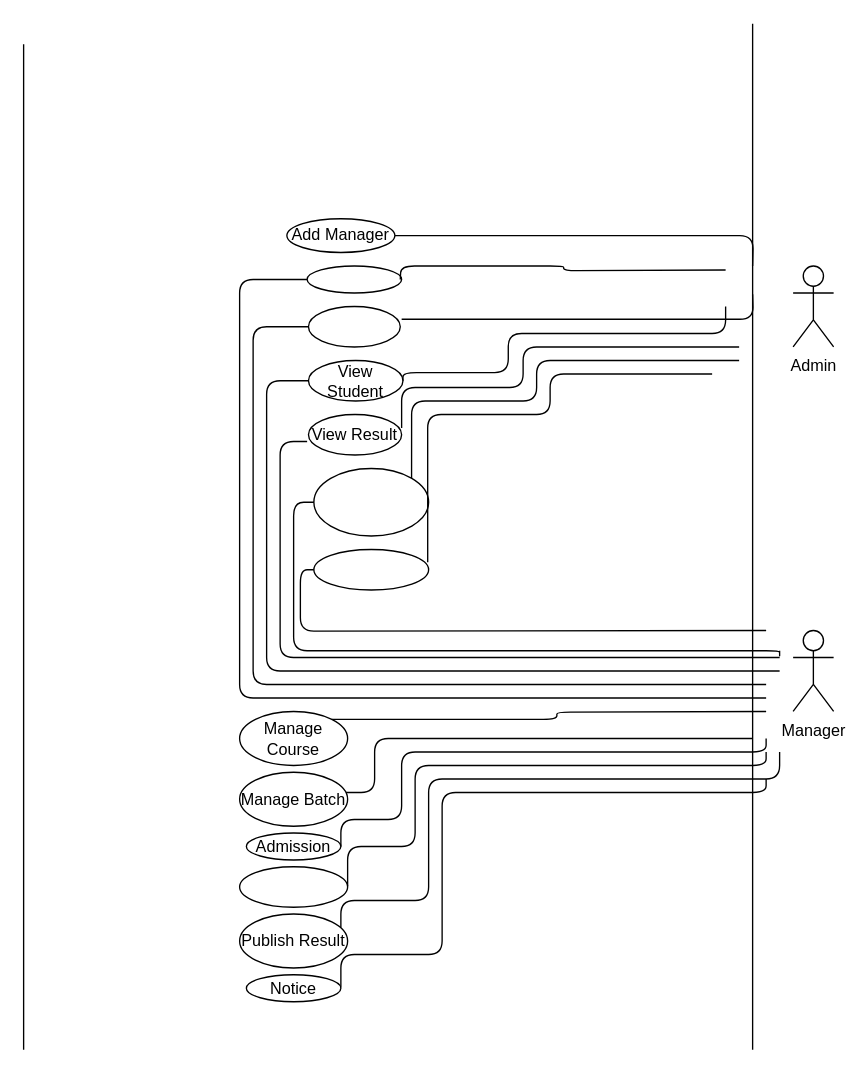
Some shapes in this 868 by 1075 pixel diagram are drawn without their labels. Here are the shapes that lost their labels. From the top down, the centre of each, then its label:
At pixel 354 279: "Sign In".
At pixel 353 326: "View Batch".
At pixel 371 501: "View Payment Info".
At pixel 371 569: "View Course".
At pixel 293 886: "Manage Payment".
